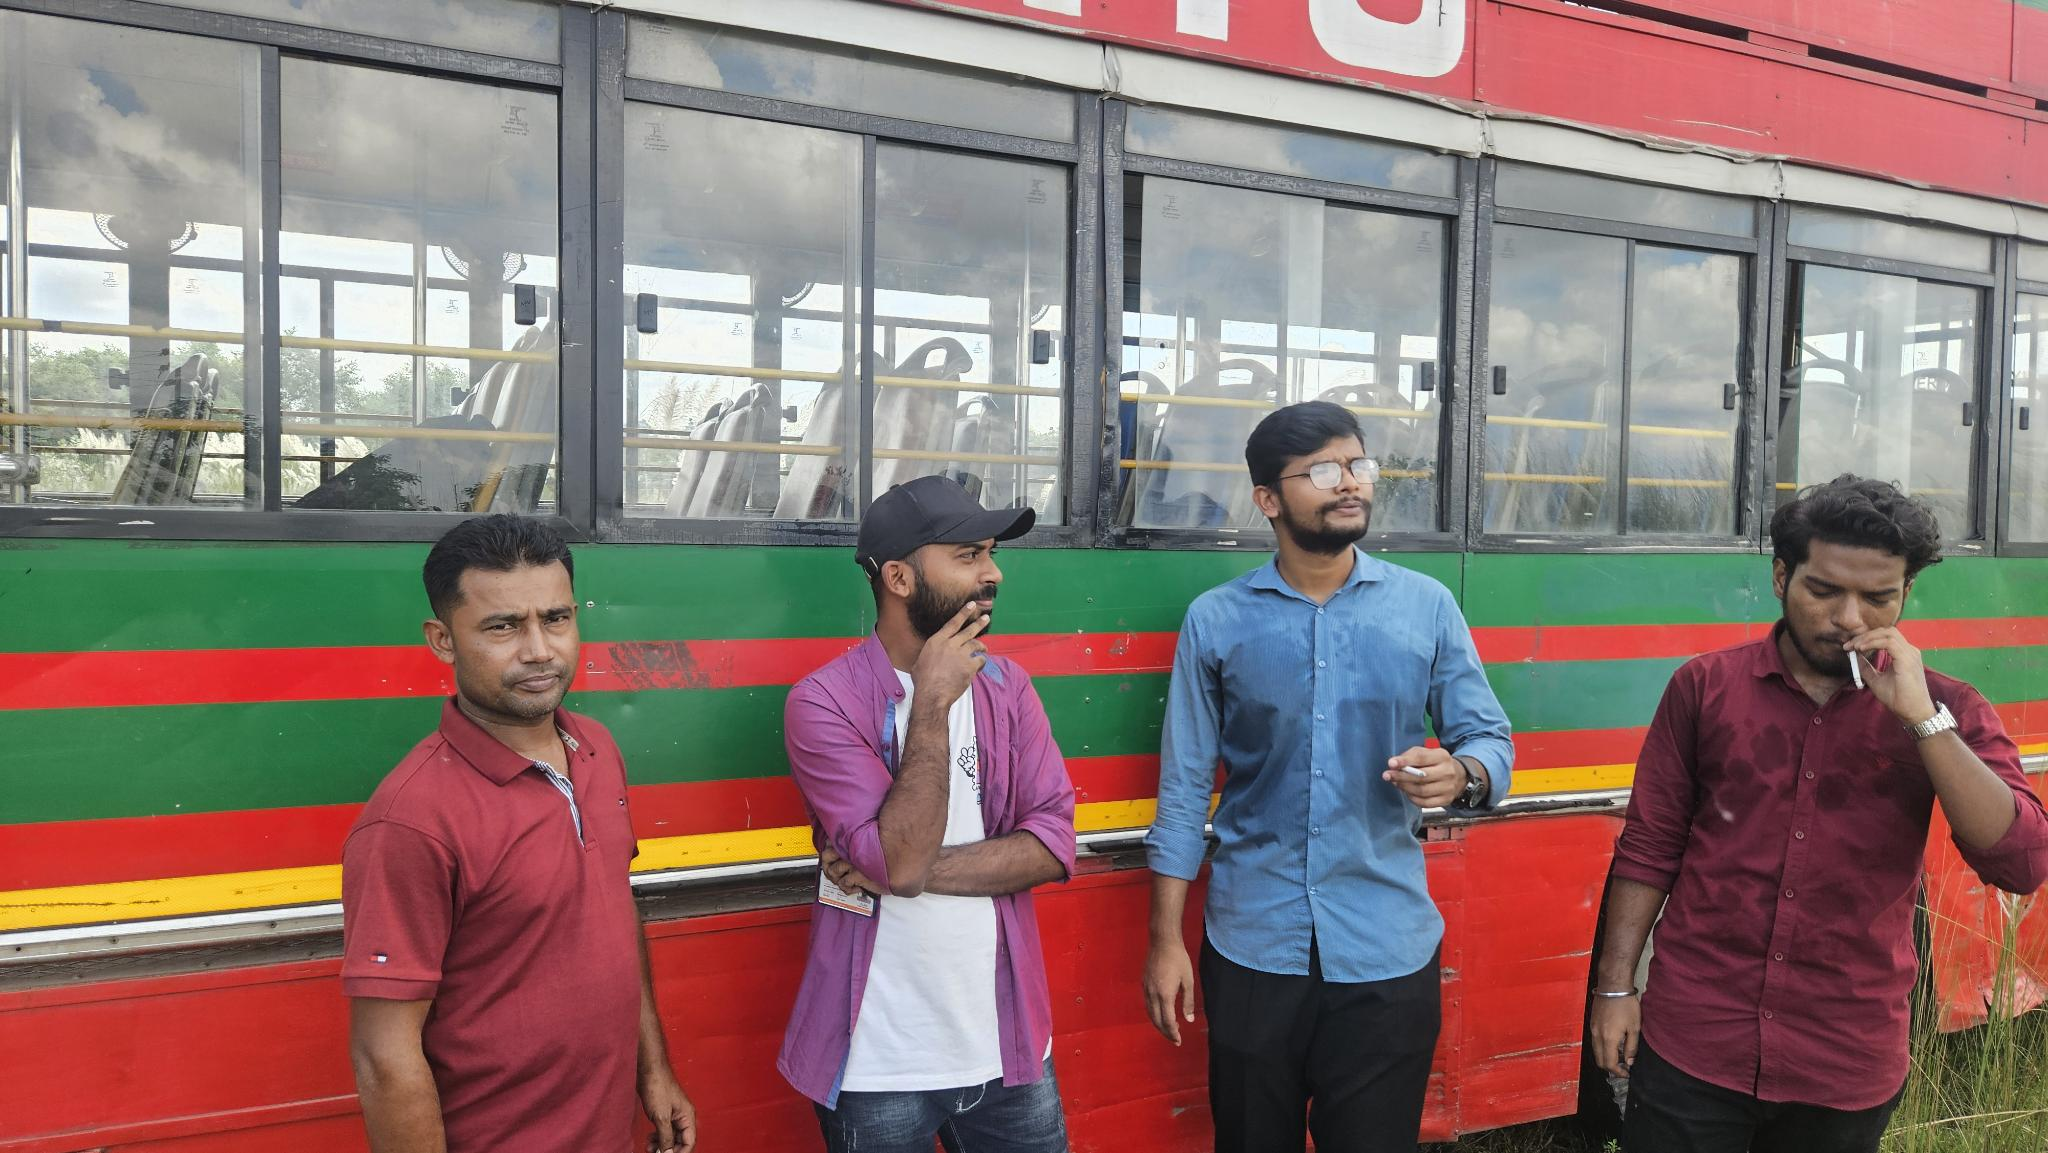cigarette: (1845, 645, 1867, 692), (1400, 764, 1429, 779)
nonSmoker: (340, 513, 698, 1153), (776, 477, 1076, 1153)
smoker: (1589, 472, 2048, 1153), (1142, 401, 1513, 1153)
